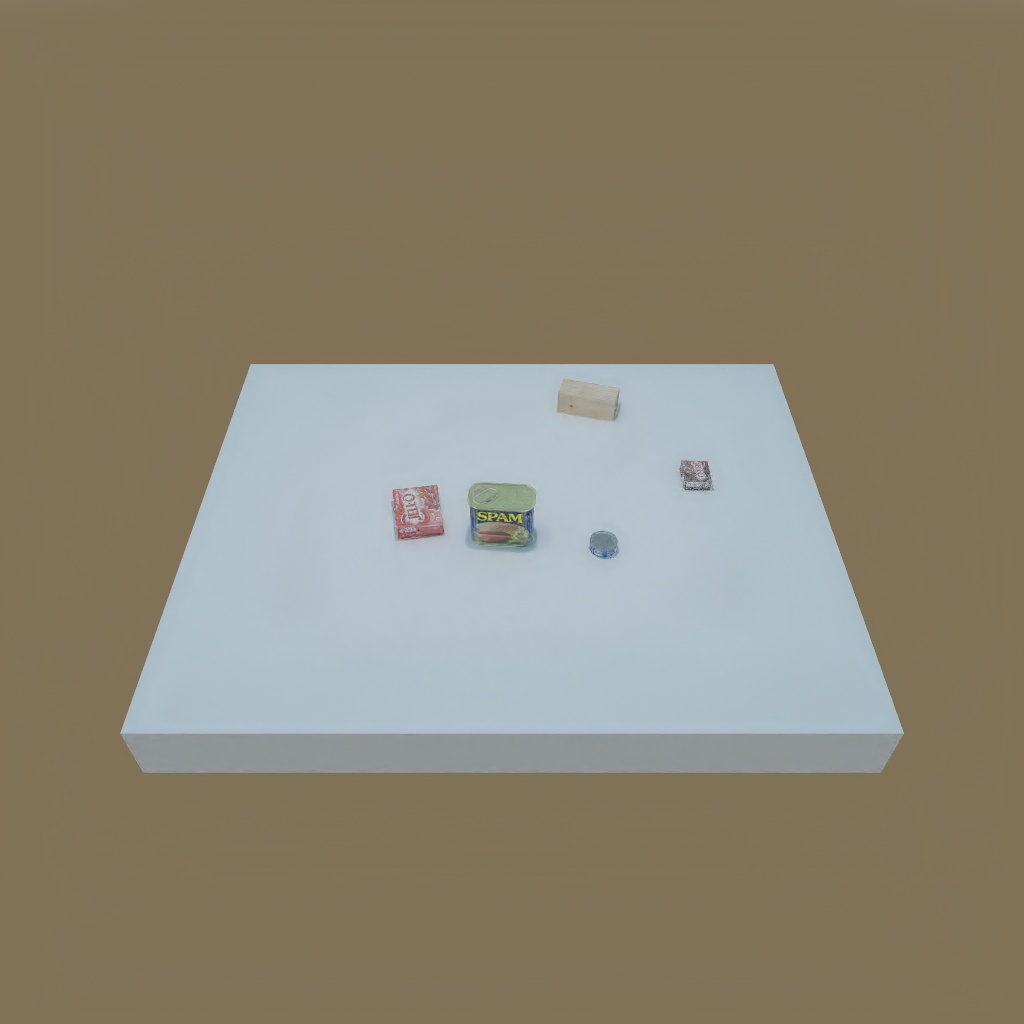gelatin_box: (386, 483, 450, 542)
potted_meat_can: (466, 479, 539, 552)
pudding_box: (675, 452, 715, 493)
wood_block: (553, 378, 627, 423)
